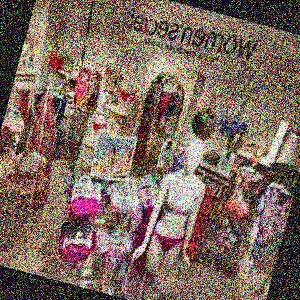women_secret: (179, 1, 300, 4)
